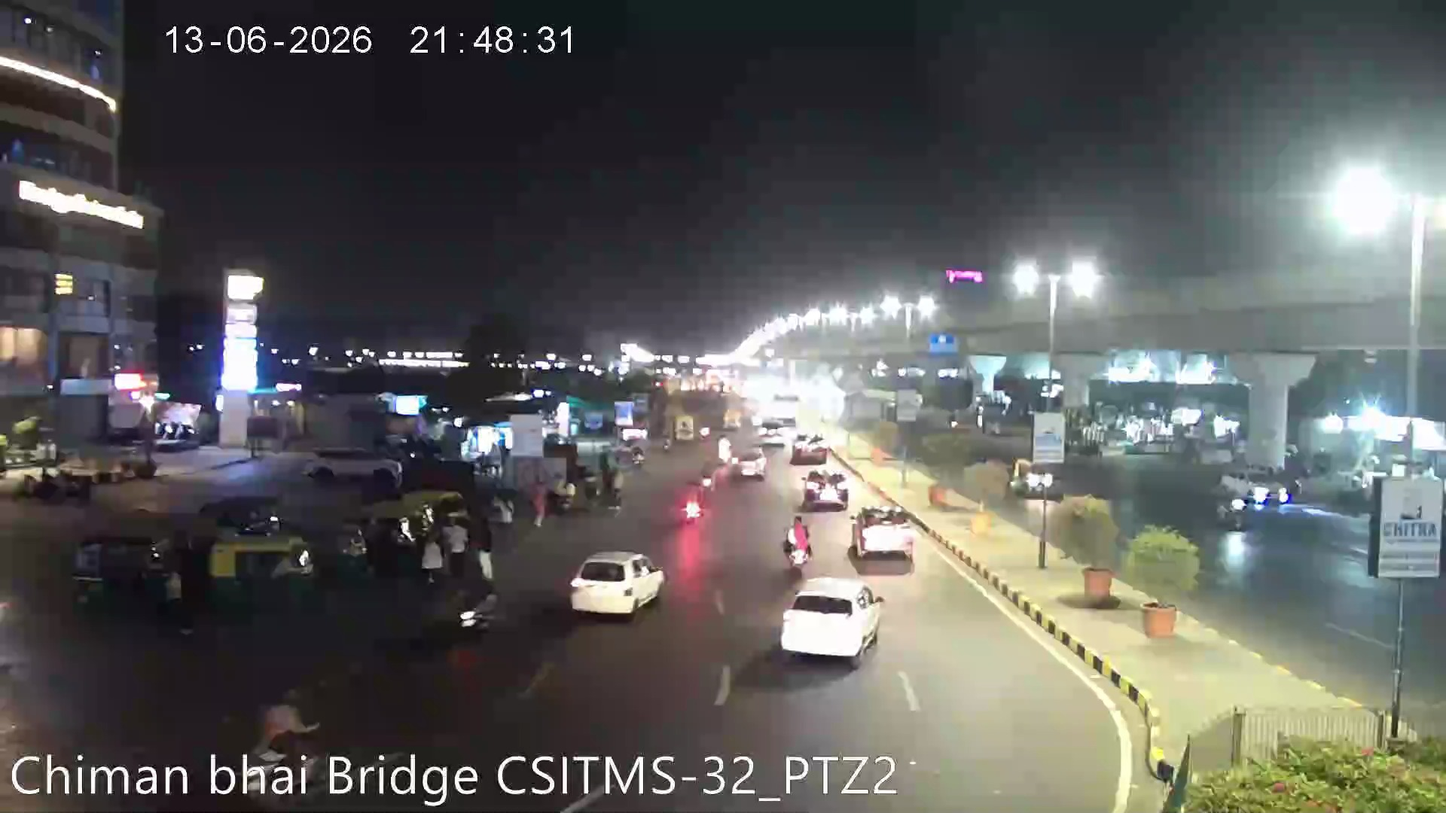auto_rickshaw: (65, 524, 186, 622), (202, 530, 322, 617), (342, 497, 439, 574), (393, 485, 471, 560)
car: (775, 577, 886, 666), (565, 546, 667, 619), (851, 505, 919, 563), (798, 466, 849, 511), (1007, 455, 1058, 499), (790, 429, 835, 463), (732, 447, 768, 481)
two_wheeler: (449, 580, 505, 639), (779, 512, 815, 573), (1209, 482, 1249, 535), (674, 479, 709, 531)
